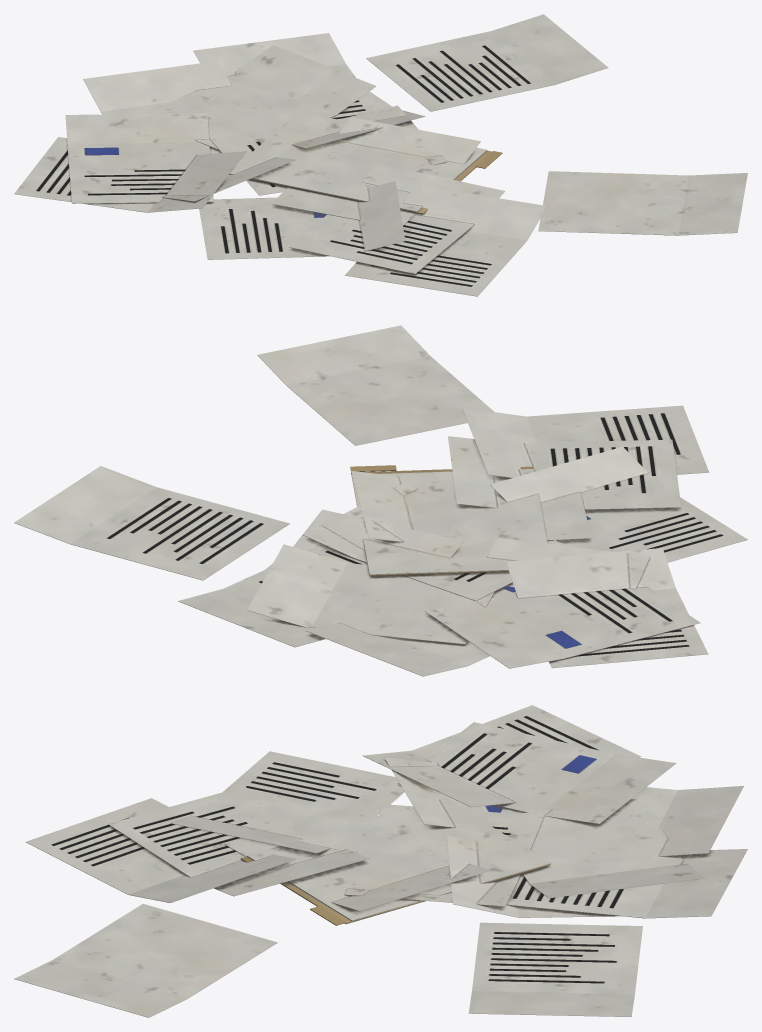
Rendered from papeis_espalhados.glb.
The picture shows the model from 3 angles, top to bottom: view 1: azimuth 30°, elevation 25°; view 2: azimuth 150°, elevation 25°; view 3: azimuth 270°, elevation 25°; orthographic projection. The views are drawn at different scales.
Visible parts, largest first — view 1: papeis; view 2: papeis; view 3: papeis.
Part boxes in pixels (x1=…): papeis: x1=14, y1=14, x2=747, y2=296; papeis: x1=14, y1=325, x2=747, y2=676; papeis: x1=14, y1=705, x2=747, y2=1017.
Bounding box in the file's own units: 0.9787 × 0.0239 × 0.9449.
Materials: 1 (1 with a texture image).
